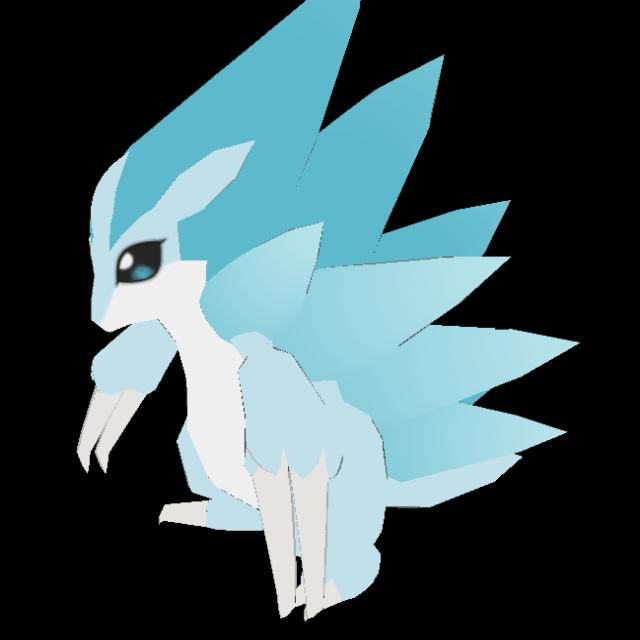Alolan: (80, 24, 558, 611)
